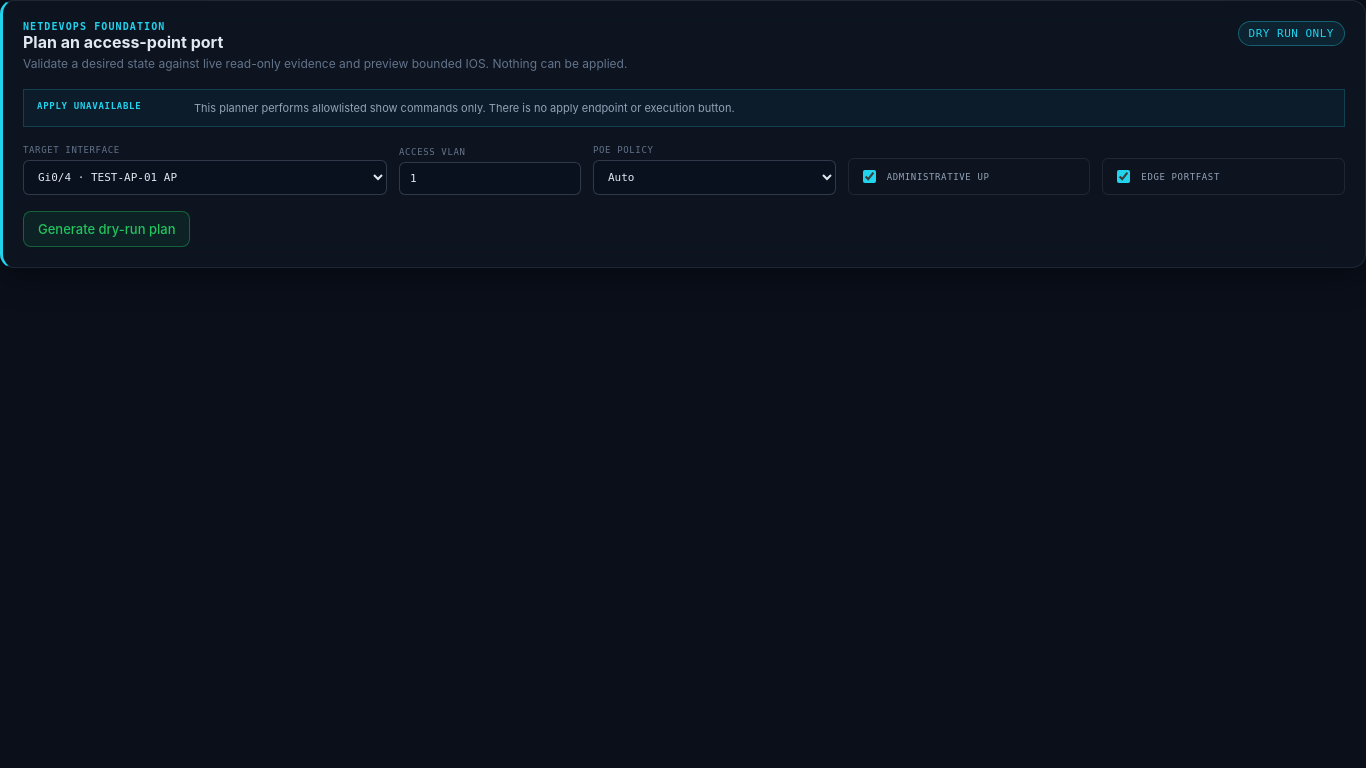
Test: DeploymentPlanPanel › reads as a deployment plan with named stages
The width and height of the screenshot is (1366, 768).
Click the button "Generate dry-run plan": (107, 229) [23, 211, 190, 247]
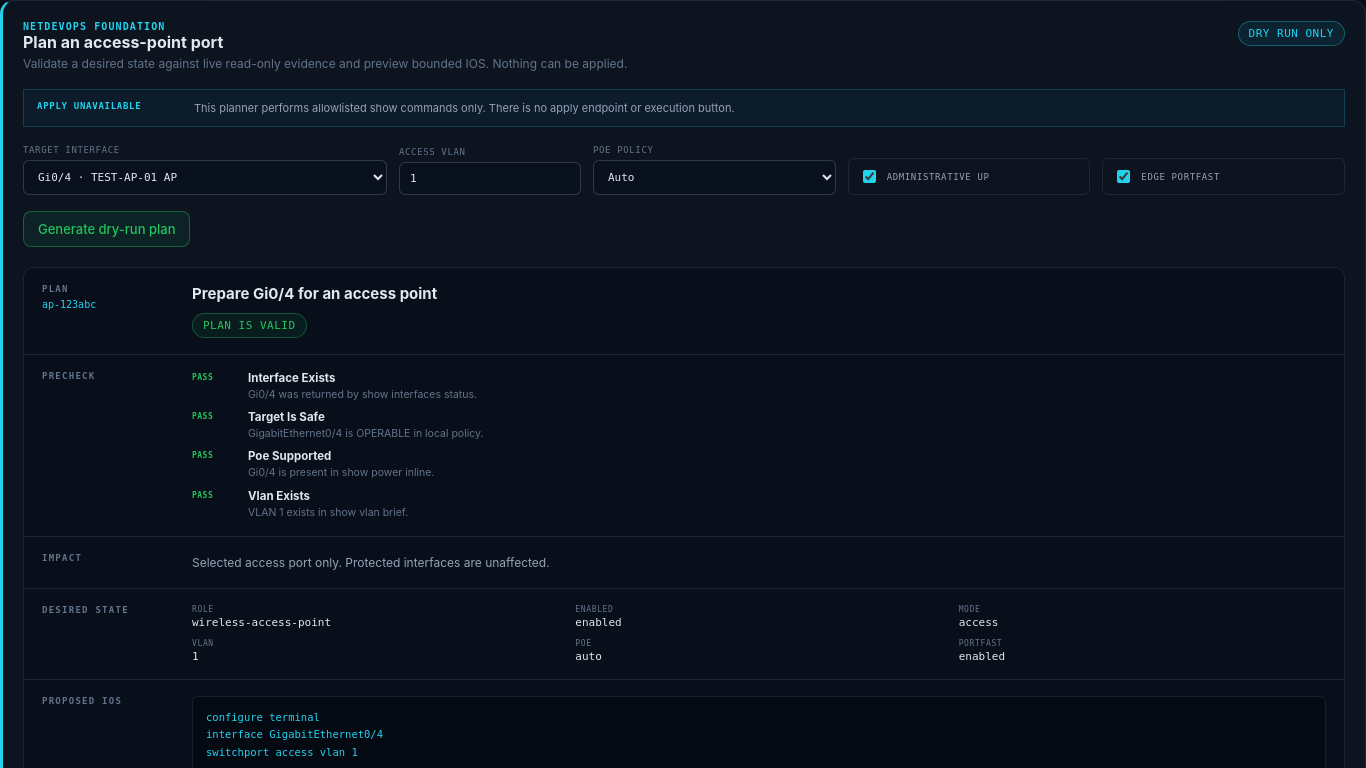
expect the heading "Prepare Gi0/4 for an access point" is shown: met, box [192, 284, 437, 303]
expect the text "Plan" is shown: met, box [42, 284, 69, 294]
expect the text "Precheck" is shown: met, box [42, 371, 95, 381]
